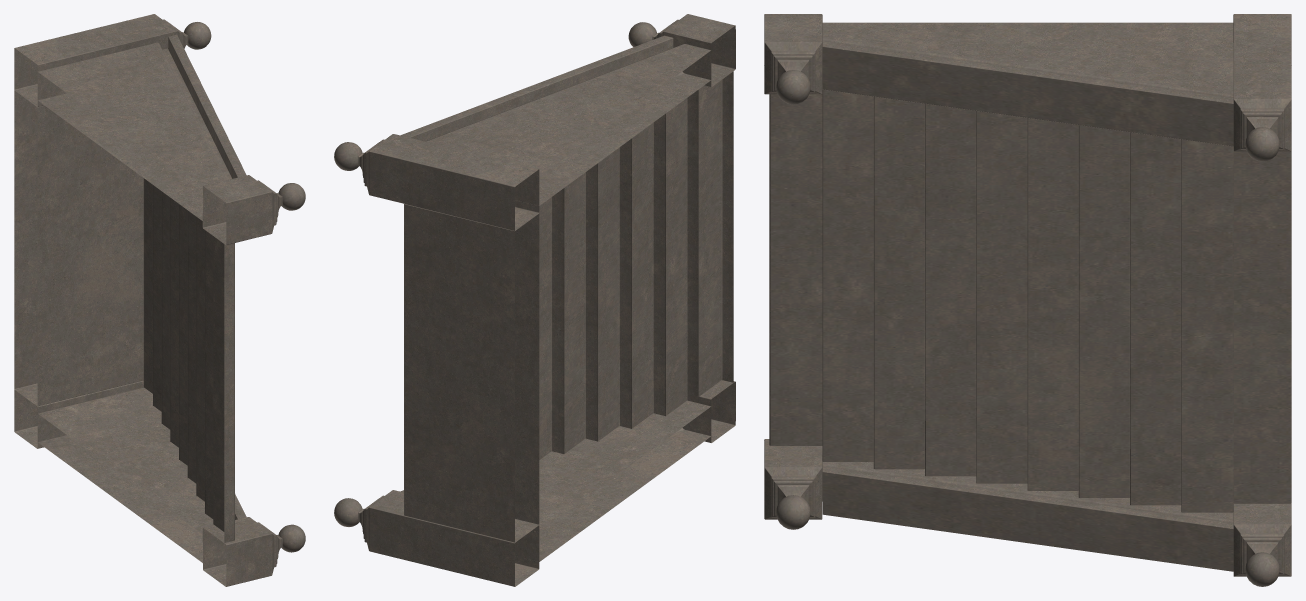
The model's file is cP_CementStairsCornerSpheres.dae.
The picture shows the model from 3 angles, left to right: view 1: azimuth 30°, elevation 25°; view 2: azimuth 150°, elevation 25°; view 3: azimuth 270°, elevation 25°; orthographic projection. The views are drawn at different scales.
Parts seen in each view (by area): view 1: cP_CementStairsCornerSpheres.001; view 2: cP_CementStairsCornerSpheres.001; view 3: cP_CementStairsCornerSpheres.001.
Part boxes in pixels (left/top/right/bottom): cP_CementStairsCornerSpheres.001: left=14, top=14, right=305, bottom=586; cP_CementStairsCornerSpheres.001: left=334, top=14, right=735, bottom=586; cP_CementStairsCornerSpheres.001: left=764, top=14, right=1291, bottom=586.
Bounding box in the file's own units: 2.25 × 4.5 × 4.5.
